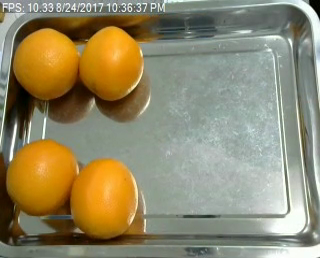Orange: (4, 138, 79, 215), (70, 156, 138, 240), (12, 26, 81, 99), (80, 25, 144, 100)
